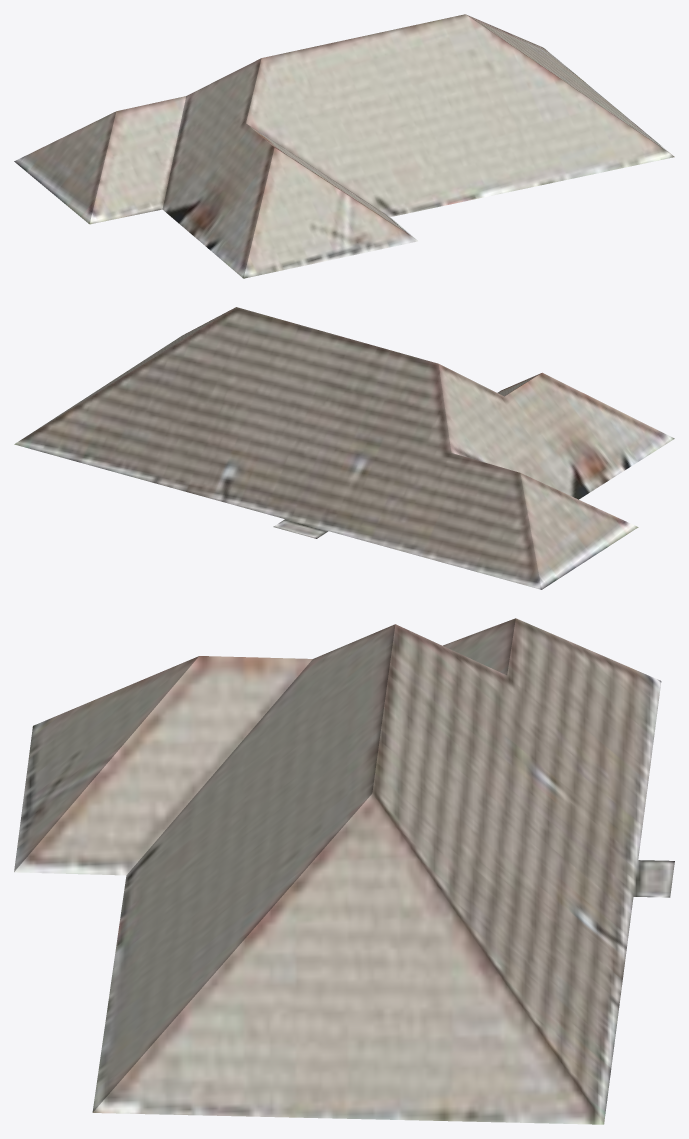
Rendered from CG10_500_049069_0046_roof.obj.
The picture shows the model from 3 angles, top to bottom: view 1: azimuth 30°, elevation 25°; view 2: azimuth 150°, elevation 25°; view 3: azimuth 270°, elevation 25°; orthographic projection. The views are drawn at different scales.
Visible parts, largest first — view 1: CG10_500_049069_0046_roof; view 2: CG10_500_049069_0046_roof; view 3: CG10_500_049069_0046_roof.
Boxes of the visible parts, box(x1,y1,x2,y2) form: CG10_500_049069_0046_roof: box(14, 14, 674, 278); CG10_500_049069_0046_roof: box(14, 307, 674, 589); CG10_500_049069_0046_roof: box(14, 618, 674, 1124).
Size of the model in its own units: 327 by 70 by 203.
Materials: 1 (1 with a texture image).
